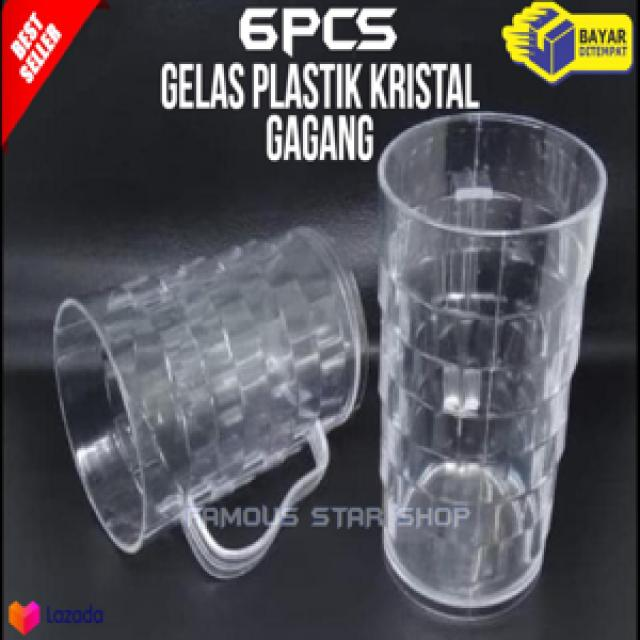plastic cup: (369, 100, 612, 625), (45, 216, 373, 584)
